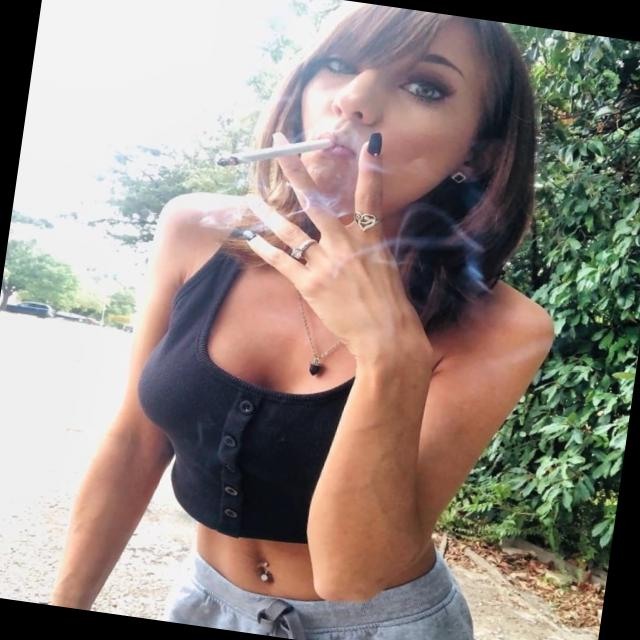smoke: (211, 119, 338, 185)
